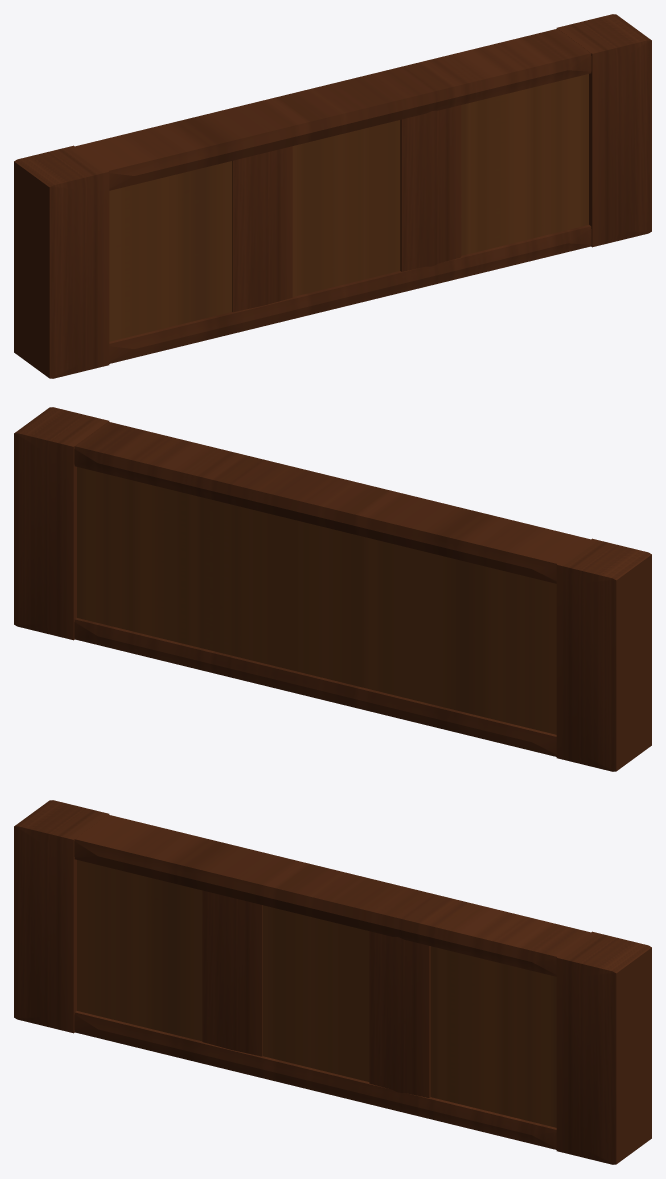
File: Half_Half_Wall_Var1_Wood.fbx
The picture shows the model from 3 angles, top to bottom: view 1: azimuth 30°, elevation 25°; view 2: azimuth 150°, elevation 25°; view 3: azimuth 330°, elevation 25°; orthographic projection.
Parts seen in each view (by area): view 1: Half_Half_Wall_Var1_Wood; view 2: Half_Half_Wall_Var1_Wood; view 3: Half_Half_Wall_Var1_Wood.
Boxes of the visible parts, x1,y1,x2,y2 form: Half_Half_Wall_Var1_Wood: (14,14,651,378); Half_Half_Wall_Var1_Wood: (14,407,651,771); Half_Half_Wall_Var1_Wood: (14,800,651,1164).
Size of the model in its own units: 212 by 64.99 by 23.4.
